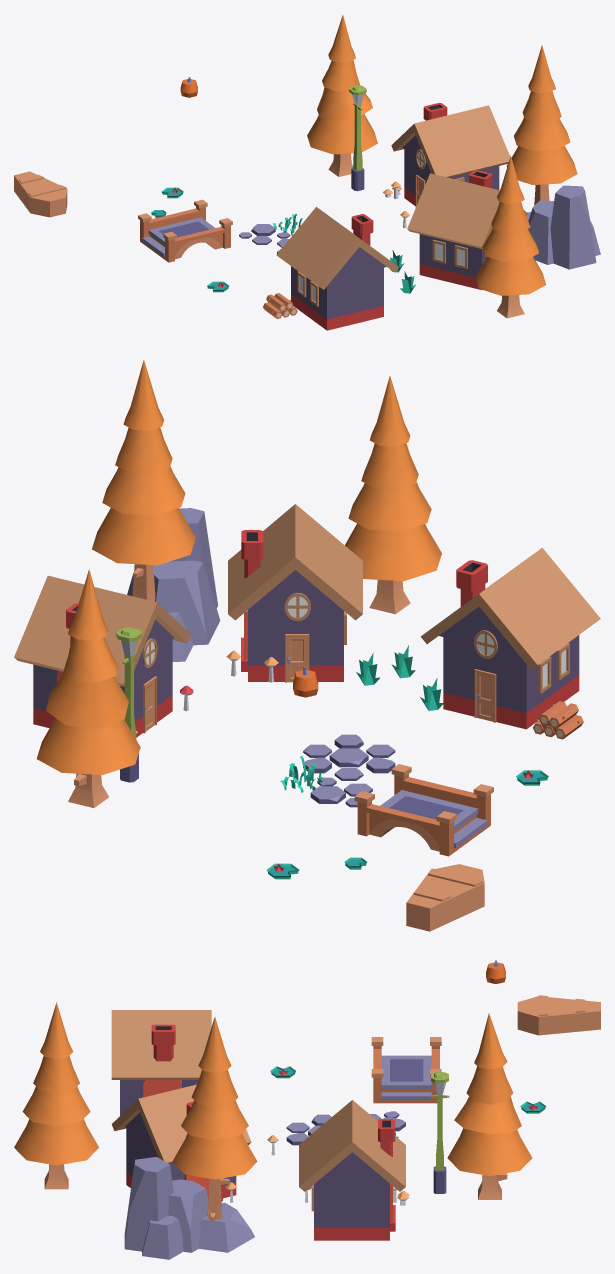
Rendered from wyrd_cottages.glb.
3 views of the same model, one above another, from view 1: azimuth 30°, elevation 25°; view 2: azimuth 150°, elevation 25°; view 3: azimuth 270°, elevation 25° (orthographic). The views are drawn at different scales.
Parts seen in each view (by area): view 1: mergedBlocks(Clone); view 2: mergedBlocks(Clone); view 3: mergedBlocks(Clone).
Part boxes in pixels (x1=…): mergedBlocks(Clone): x1=14, y1=15, x2=600, y2=330; mergedBlocks(Clone): x1=14, y1=360, x2=600, y2=931; mergedBlocks(Clone): x1=14, y1=960, x2=600, y2=1259.
Bounding box in the file's own units: 1.3 × 0.5949 × 1.41.
